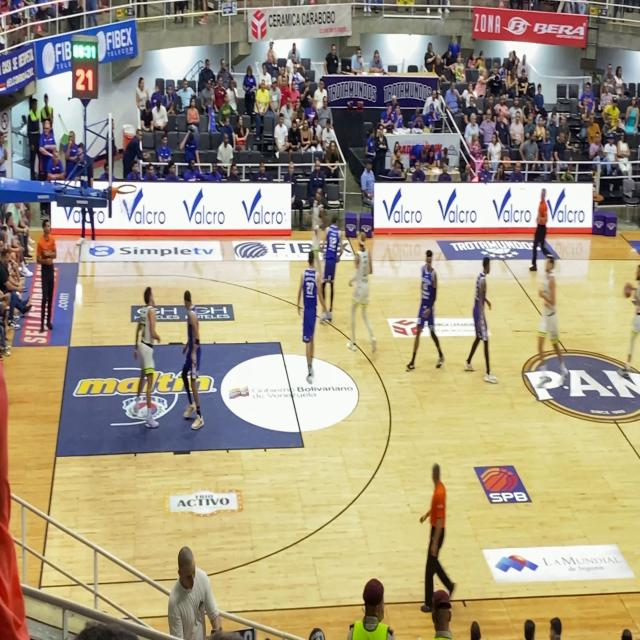Ball: (620, 276, 636, 305)
referee: (417, 446, 465, 602), (35, 197, 63, 353), (531, 172, 568, 256)
team1: (123, 278, 171, 457), (522, 240, 574, 386), (348, 218, 384, 365), (312, 208, 347, 336), (606, 255, 640, 378), (293, 169, 335, 245)
team2: (168, 283, 218, 455), (410, 230, 452, 381), (288, 231, 330, 365), (467, 232, 499, 386)
ubasket: (117, 181, 138, 209)
